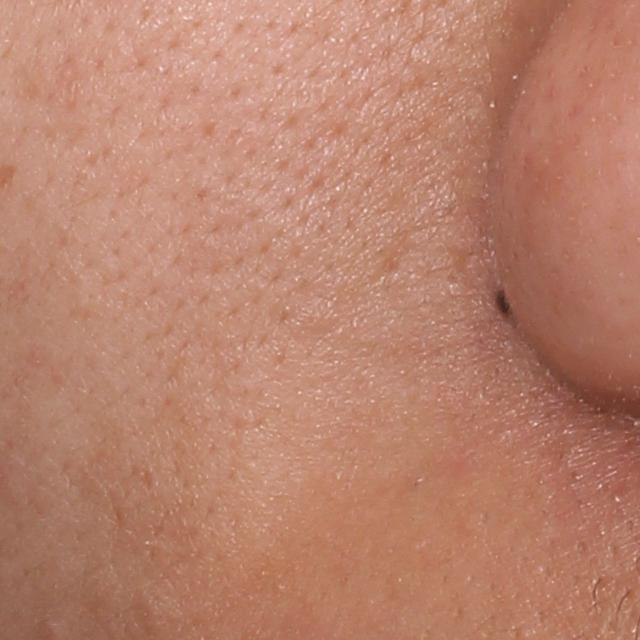nevus: (490, 287, 514, 315)
